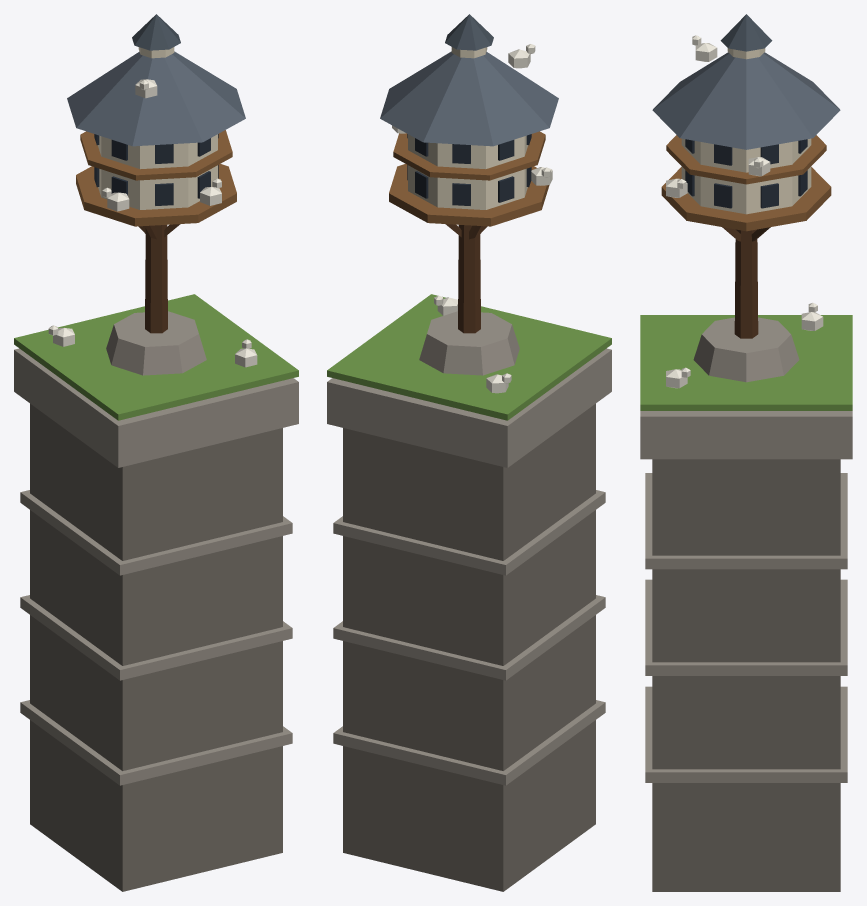
Rendered from decor_dovecote.glb.
3 renders of one model, left to right at view 1: azimuth 30°, elevation 25°; view 2: azimuth 150°, elevation 25°; view 3: azimuth 270°, elevation 25°, orthographic.
Parts seen in each view (by area): view 1: decor_dovecote; view 2: decor_dovecote; view 3: decor_dovecote.
Part boxes in pixels (x1,y1,x2,y2): decor_dovecote: (14,14,298,891); decor_dovecote: (327,14,611,891); decor_dovecote: (640,14,852,891).
Size of the model in its own units: 1.8 by 7.85 by 1.8.
